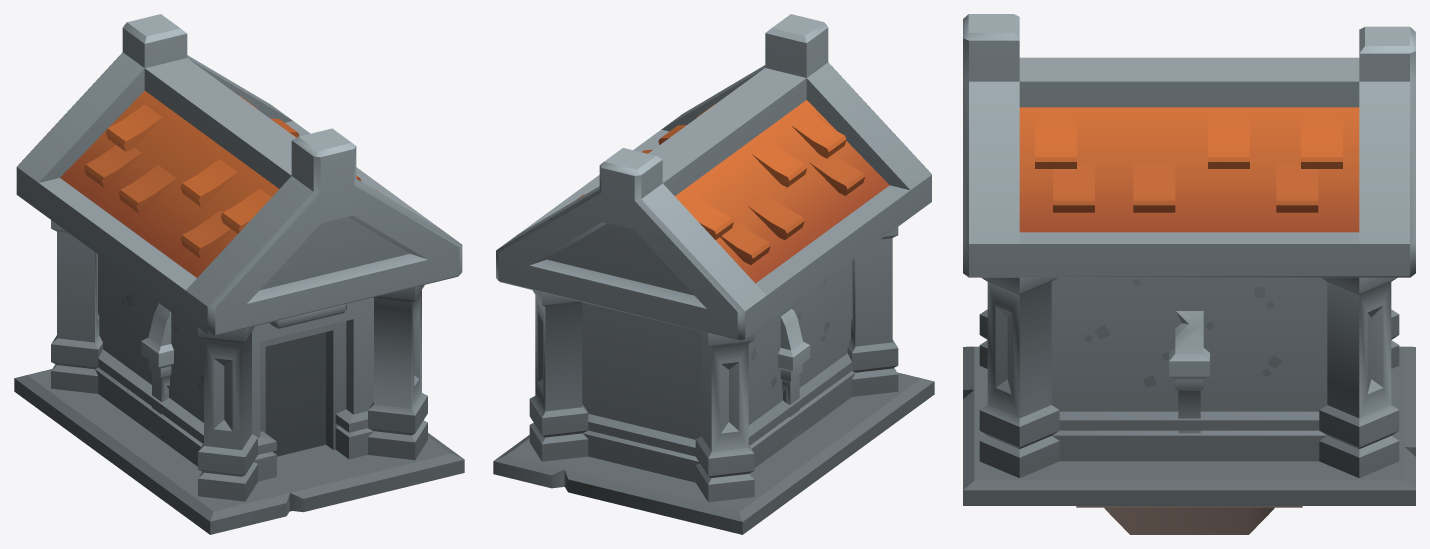
File: grave.glb
3 renders of one model, left to right at view 1: azimuth 30°, elevation 25°; view 2: azimuth 150°, elevation 25°; view 3: azimuth 270°, elevation 25°, orthographic. The views are drawn at different scales.
Parts seen in each view (by area): view 1: crypt, arch; view 2: crypt, arch; view 3: crypt, floor_dirt_grave, arch.
Boxes of the visible parts, x1=… form: crypt: x1=14, y1=14, x2=464, y2=534; arch: x1=141, y1=303, x2=173, y2=439; crypt: x1=493, y1=14, x2=934, y2=534; arch: x1=778, y1=309, x2=810, y2=441; crypt: x1=963, y1=14, x2=1415, y2=505; floor_dirt_grave: x1=1076, y1=506, x2=1302, y2=534; arch: x1=1169, y1=311, x2=1209, y2=433.
Bounding box in the file's own units: 6 × 9.5 × 8.
1 material, 1 textured.
